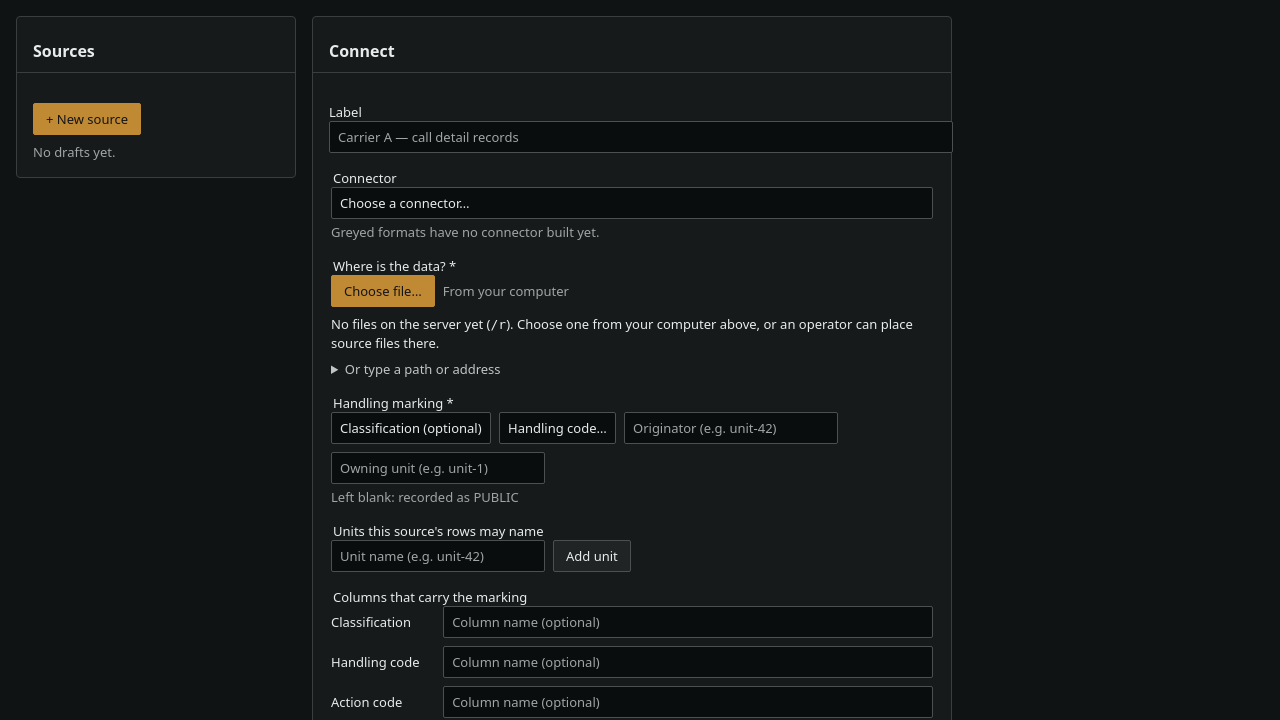
it: Connect: the units a source's rows may name › adds a unit on Enter, so the keyboard alone can fill the list
Expected: the button "Choose file…" is shown, x1=331 y1=274 x2=435 y2=306
Type "unit-8" into the field labelled "Unit name" at x=438, y=556, box x1=331 y1=540 x2=545 y2=572
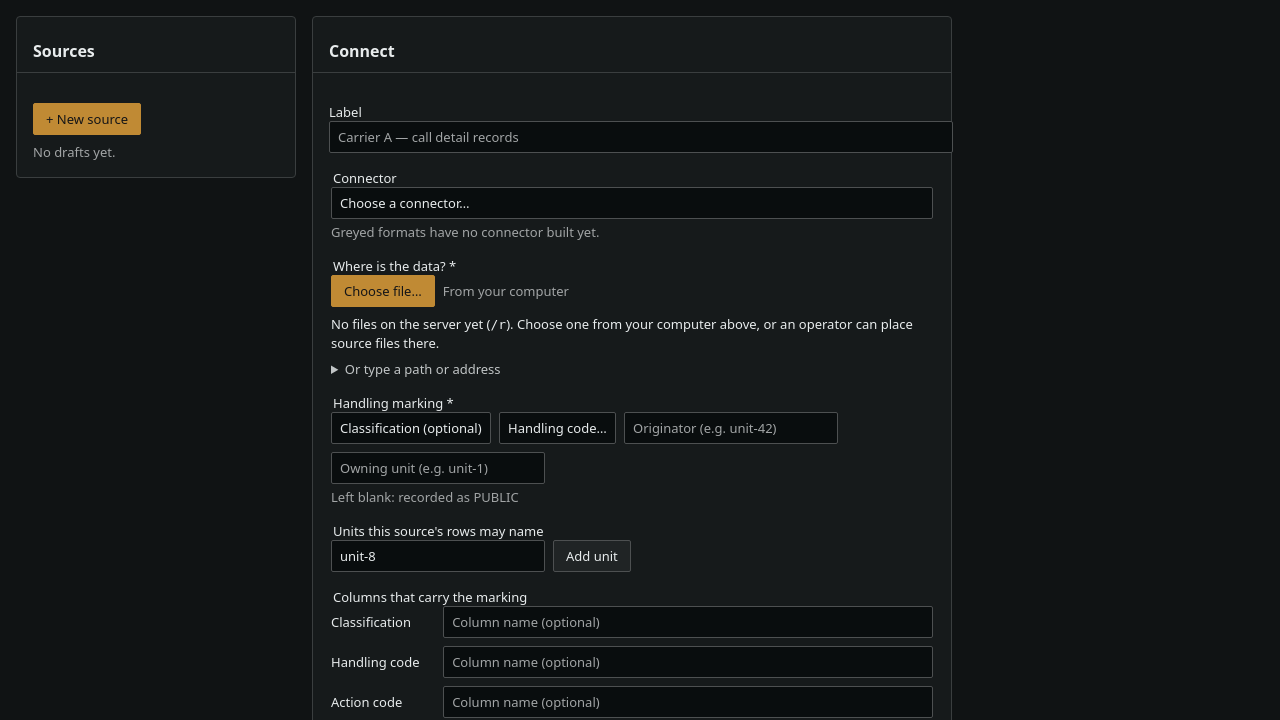
Press Enter in the field named "Unit name", box x1=331 y1=540 x2=545 y2=572
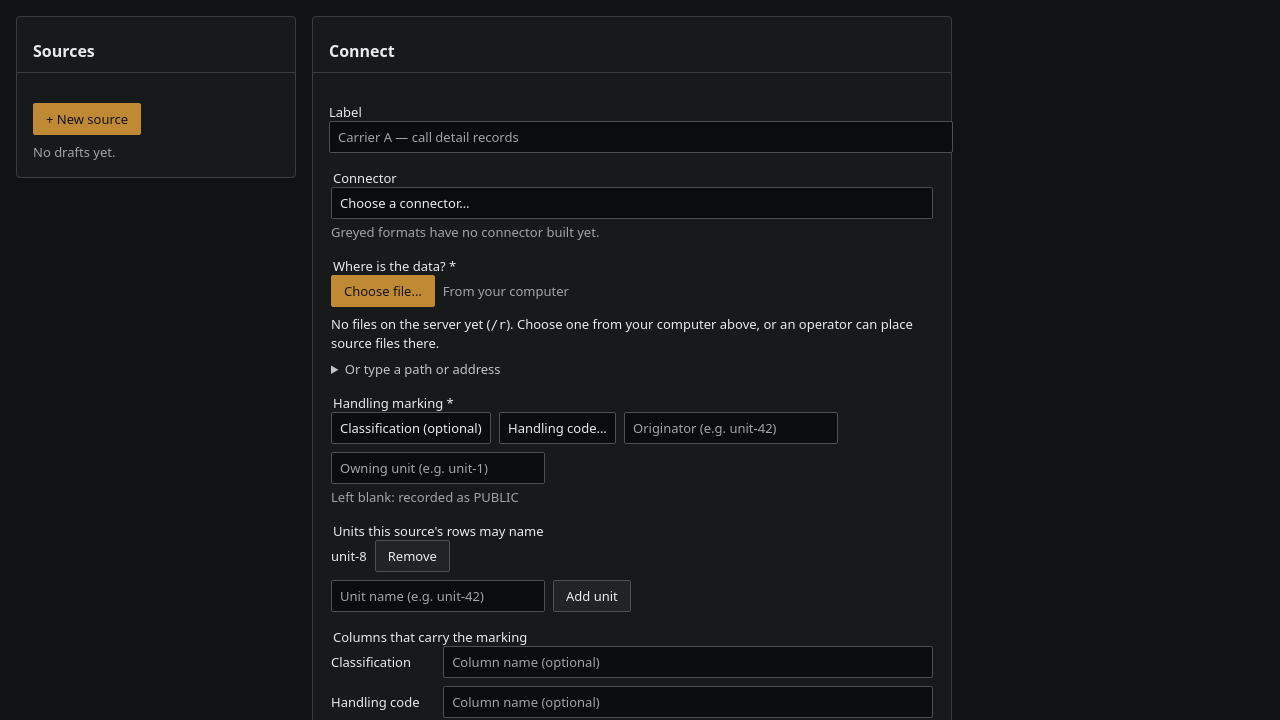
Expected: the text "unit-8" is shown, x1=331 y1=546 x2=367 y2=564
